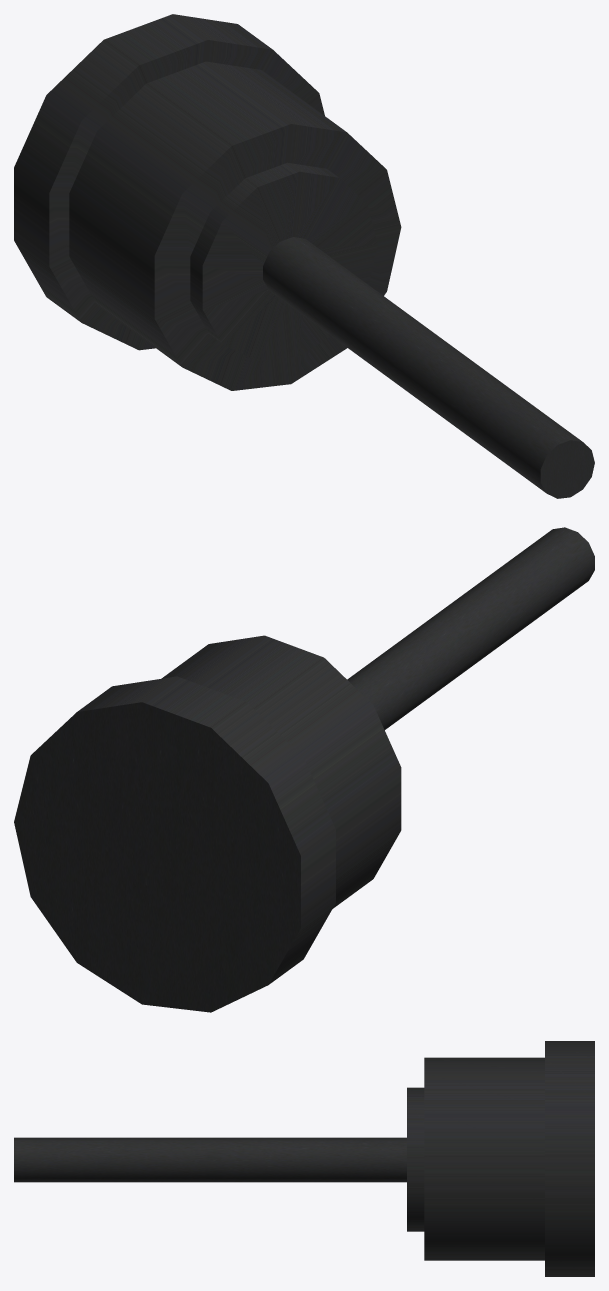
File: Round_Nut1.dae
3 renders of one model, top to bottom at view 1: azimuth 30°, elevation 25°; view 2: azimuth 150°, elevation 25°; view 3: azimuth 270°, elevation 25°, orthographic. The views are drawn at different scales.
Parts seen in each view (by area): view 1: Round_Nut1; view 2: Round_Nut1; view 3: Round_Nut1.
Boxes of the visible parts, x1,y1,x2,y2 form: Round_Nut1: [14, 14, 594, 498]; Round_Nut1: [14, 527, 594, 1012]; Round_Nut1: [14, 1041, 594, 1276].
Size of the model in its own units: 0.0177 by 0.0439 by 0.0178.
Materials: 1 (1 with a texture image).
